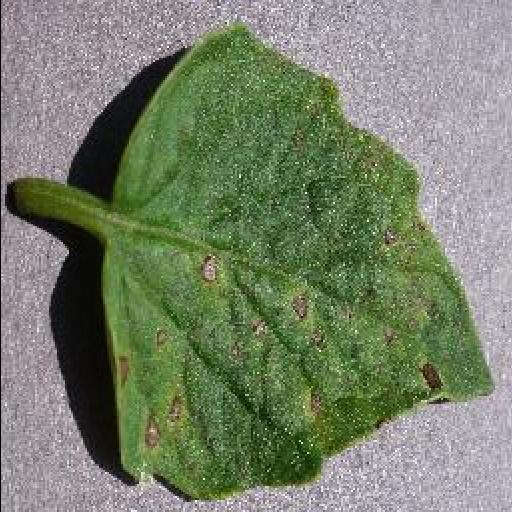disease_tomato: (96, 26, 498, 502)
